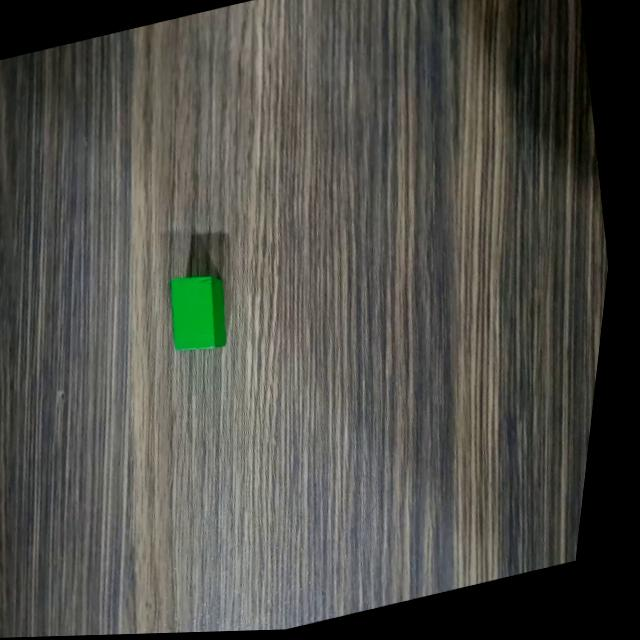cube: (160, 257, 248, 364)
